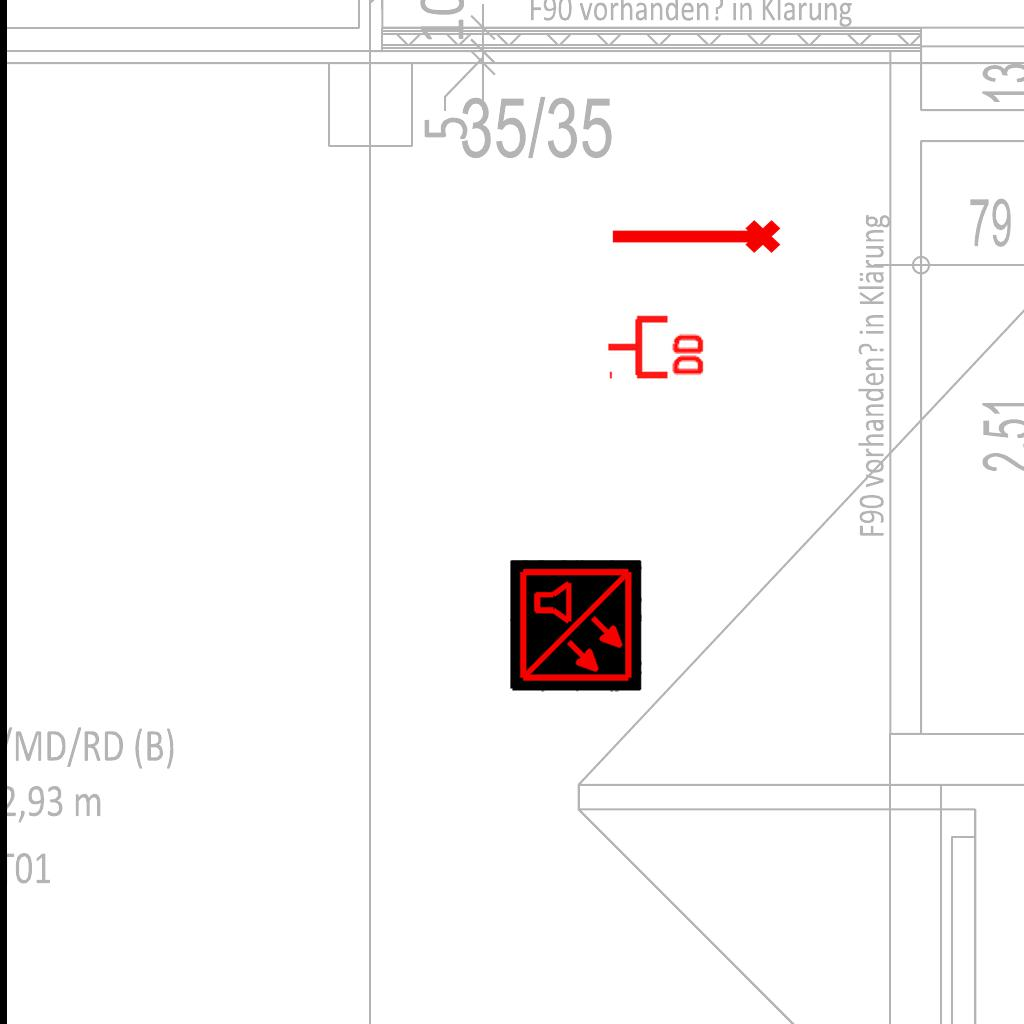ASR_Ansaugoeffnung: (607, 216, 783, 262)
Datenanschluss_zweifach: (605, 311, 708, 380)
OKW_Multisensormelder_(Kombination_optischer_Rauch-Kahlenmonoxid_Waerme-Melder): (510, 560, 642, 692)
